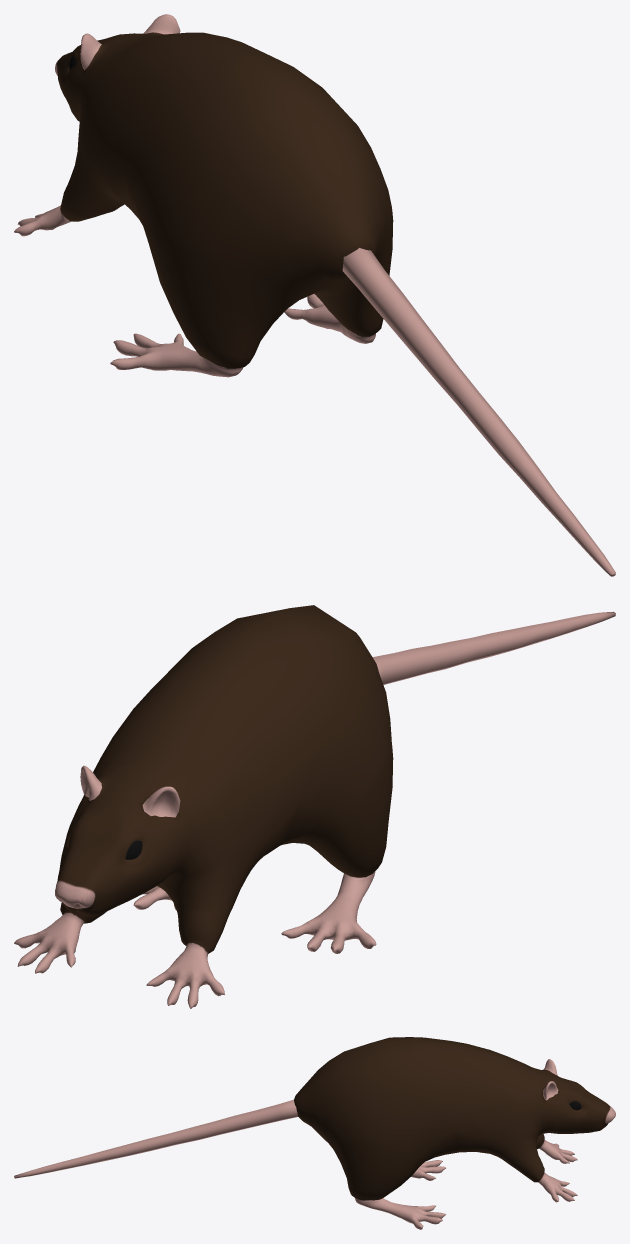
File: the_rat.fbx
3 renders of one model, top to bottom at view 1: azimuth 30°, elevation 25°; view 2: azimuth 150°, elevation 25°; view 3: azimuth 270°, elevation 25°, orthographic. The views are drawn at different scales.
Visible parts, largest first — view 1: body, tail; view 2: body, tail; view 3: body, tail.
Boxes of the visible parts, x1,y1,x2,y2 form: body: (14,14,393,377); tail: (342,248,615,576); body: (14,605,393,1008); tail: (372,611,615,684); body: (294,1037,615,1229); tail: (14,1099,297,1178).
Bounding box in the file's own units: 824 × 847 × 2939.
